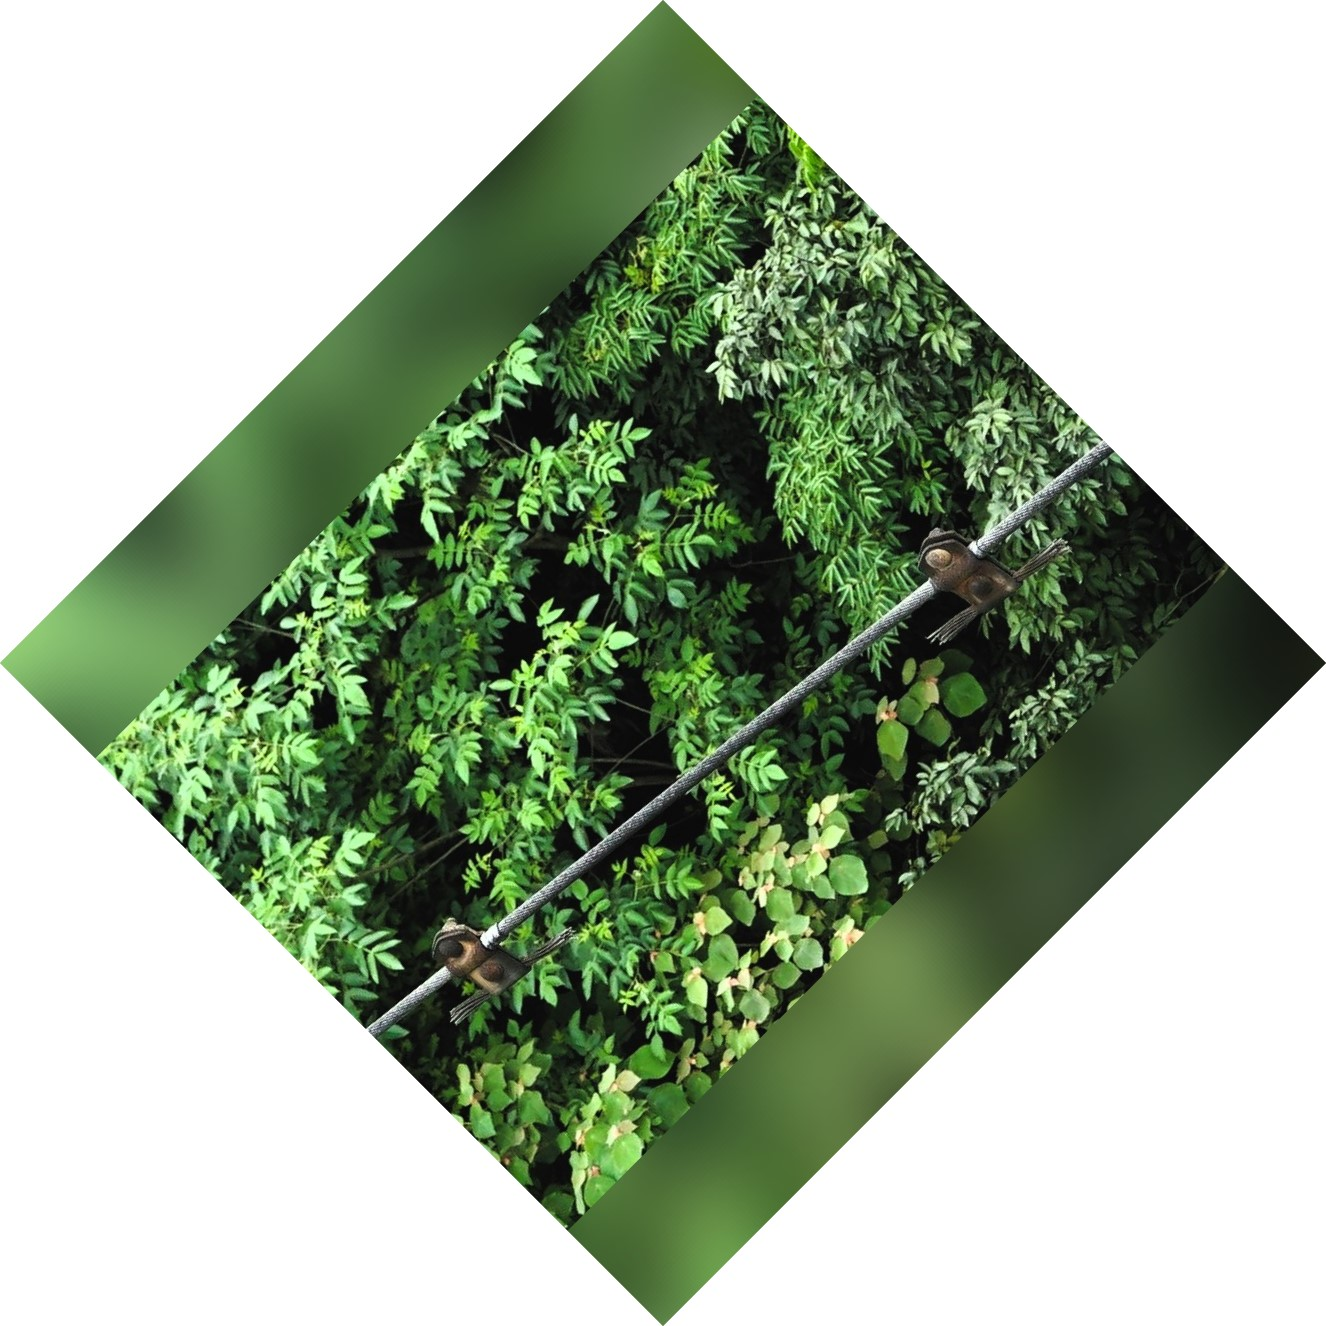Damage of shockproof hammer: (900, 495, 1094, 671), (414, 892, 610, 1035)
